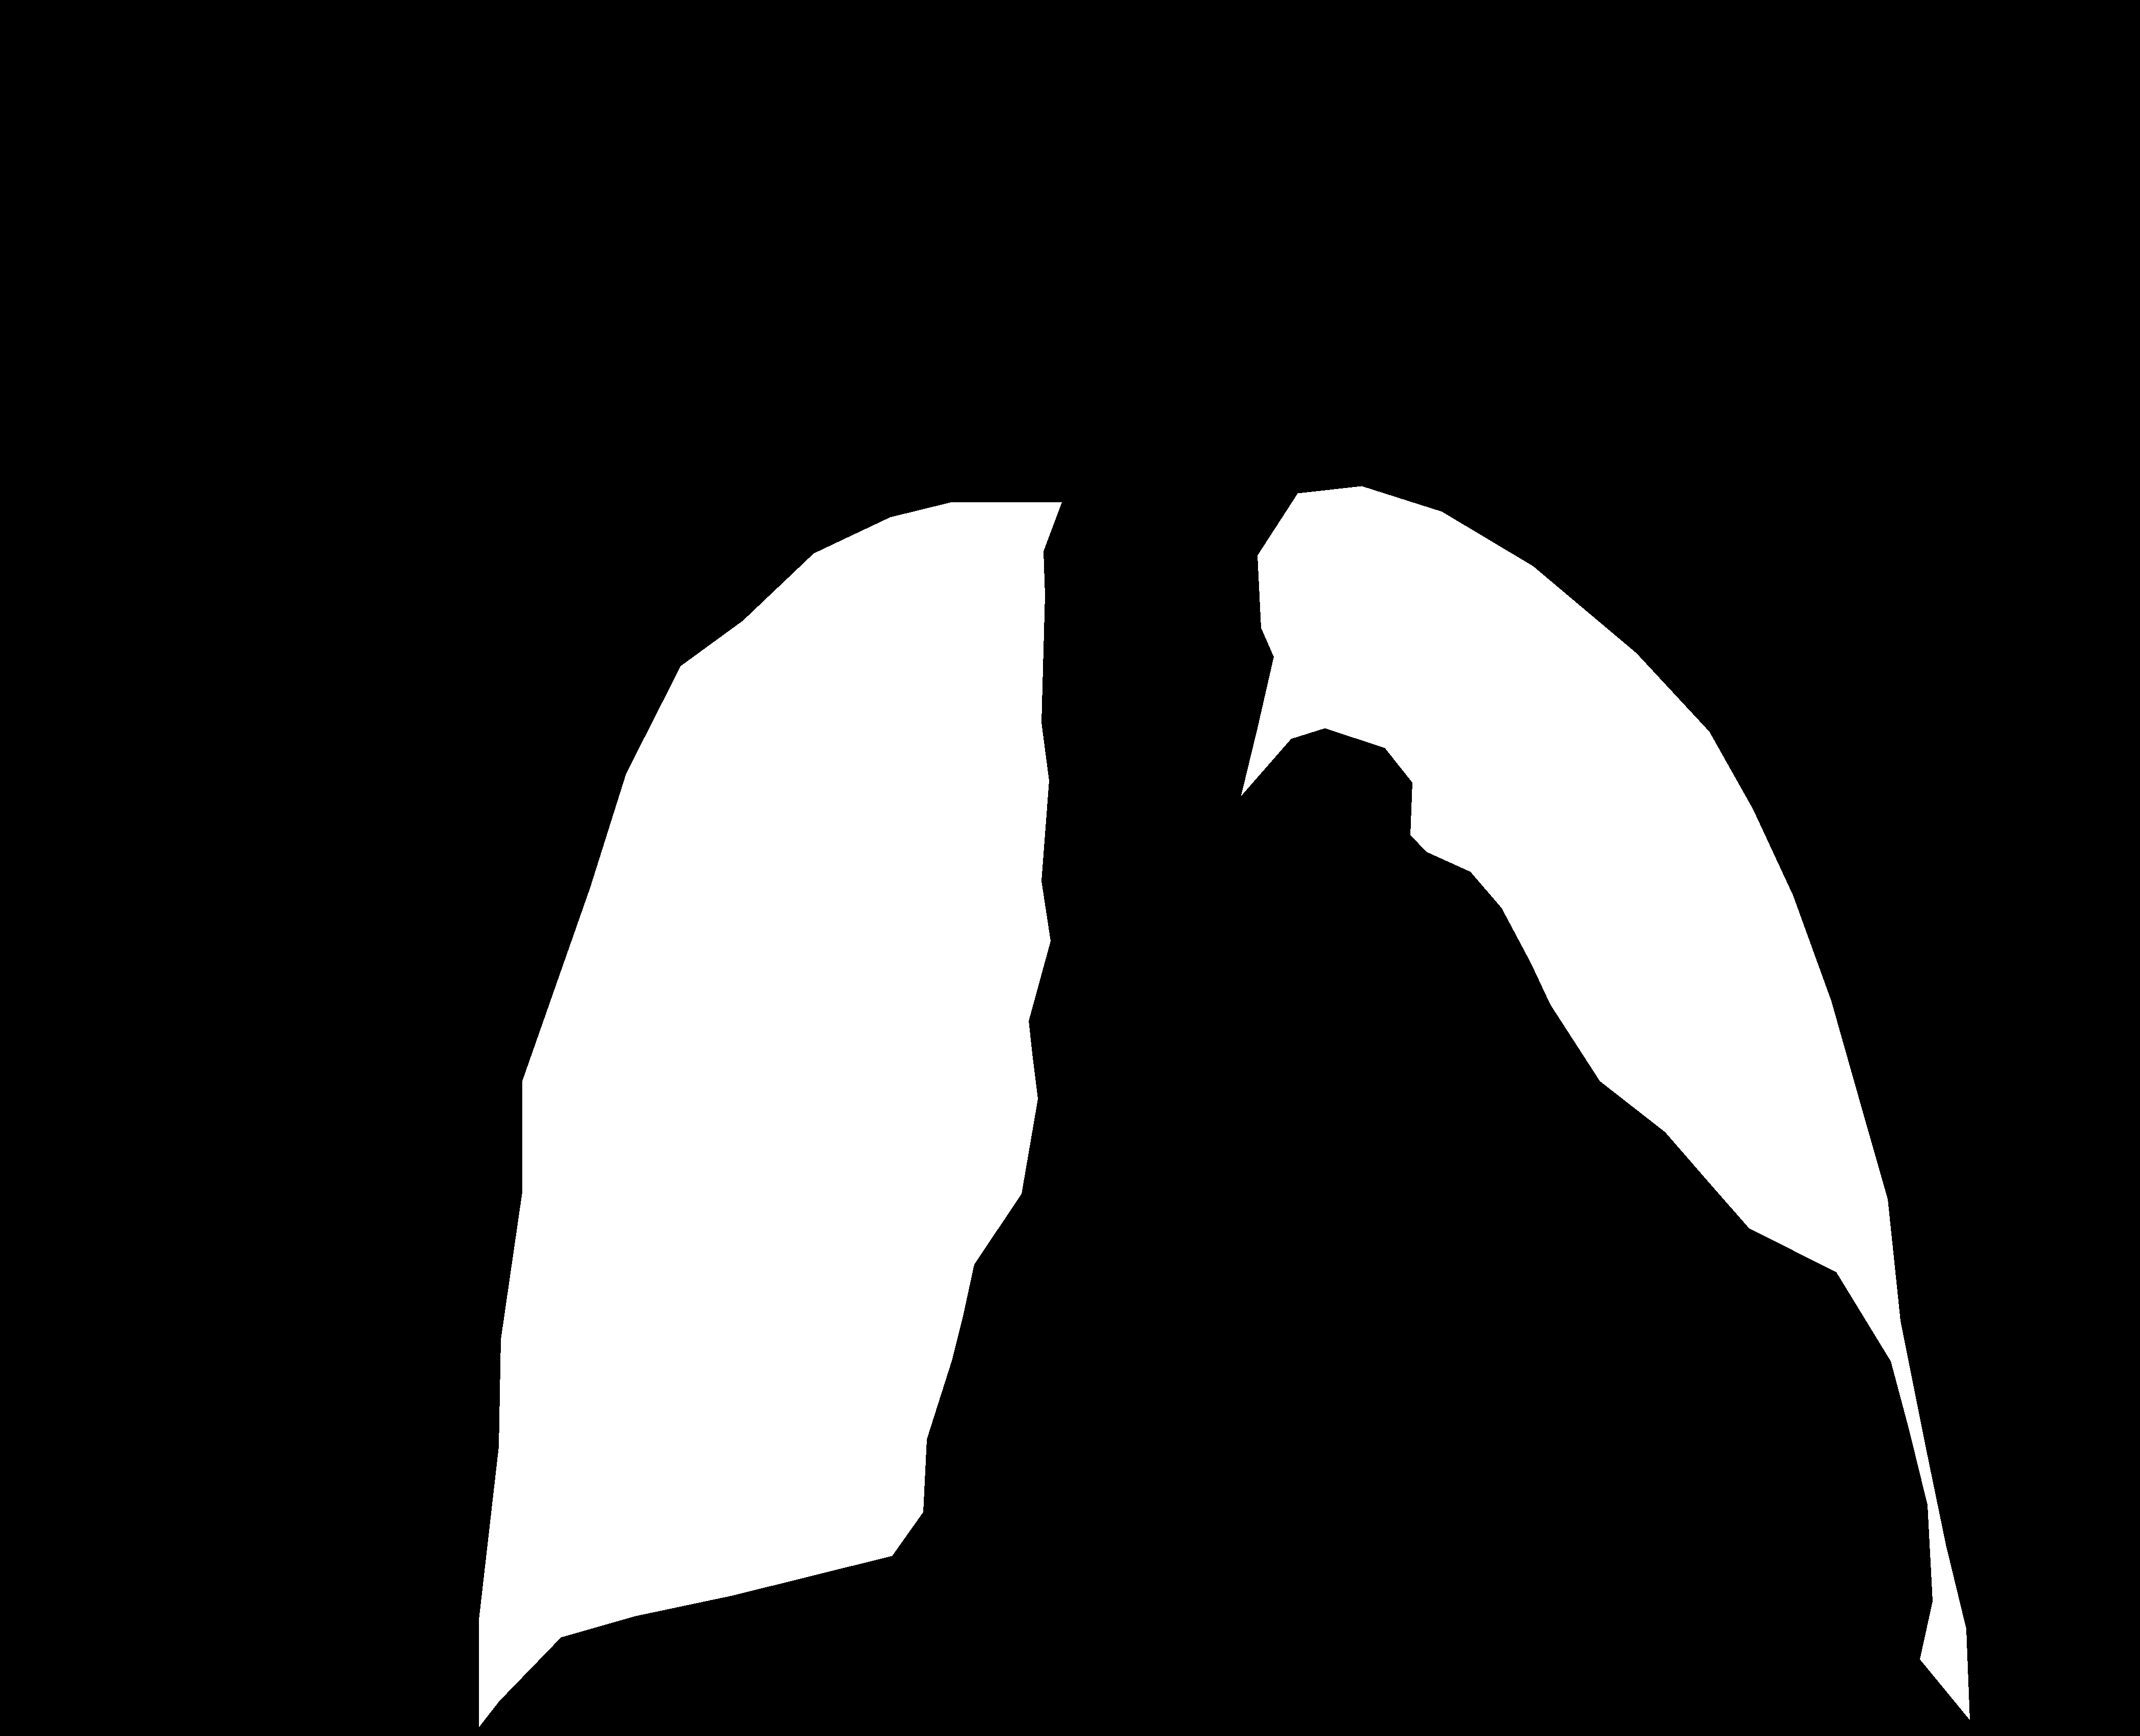heart: (918, 868, 1927, 1616)
left_lung: (478, 503, 1061, 1727)
right_lung: (1242, 485, 1970, 1720)
